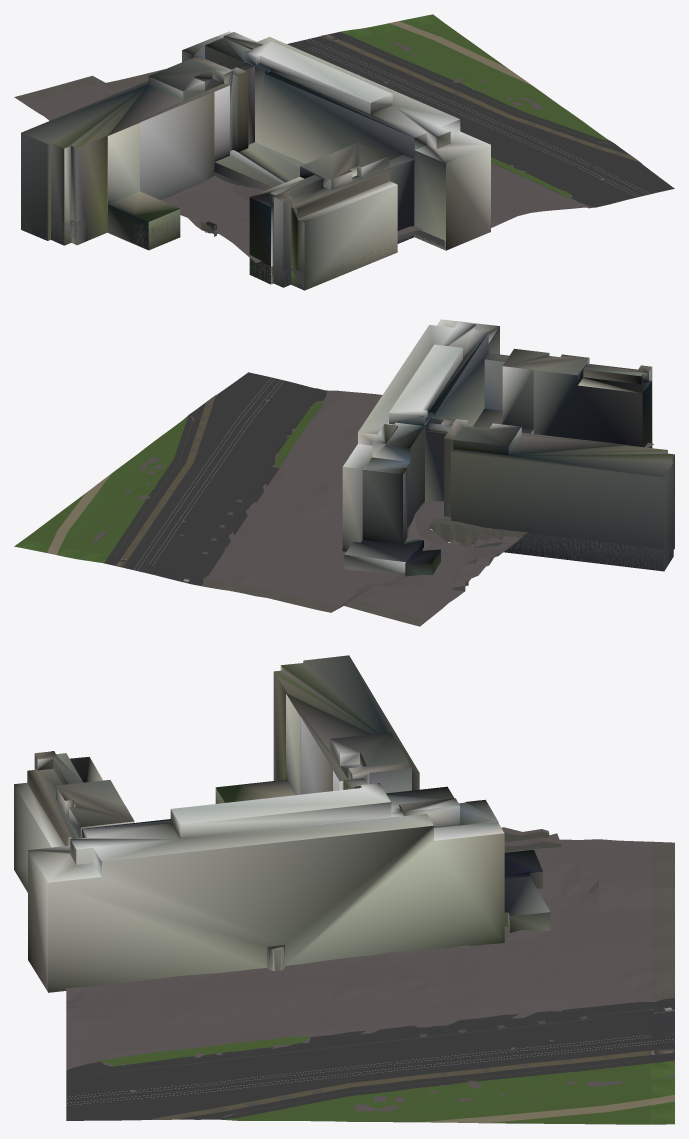
3 renders of one model, top to bottom at view 1: azimuth 30°, elevation 25°; view 2: azimuth 150°, elevation 25°; view 3: azimuth 270°, elevation 25°, orthographic. The views are drawn at different scales.
Parts seen in each view (by area): view 1: c_m11_m09; view 2: c_m11_m09; view 3: c_m11_m09.
Boxes of the visible parts, x1,y1,x2,y2 form: c_m11_m09: [14, 14, 674, 290]; c_m11_m09: [14, 319, 674, 626]; c_m11_m09: [14, 655, 674, 1124].
Bounding box in the file's own units: 165 × 35.81 × 139.
